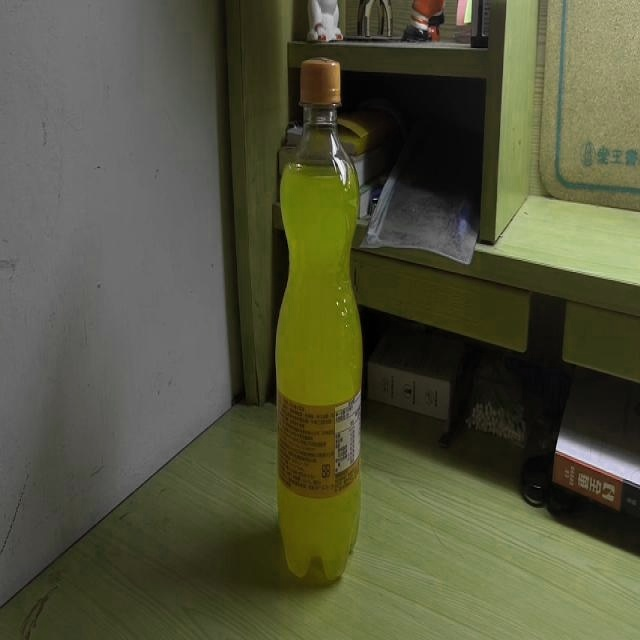Fanta: (276, 56, 362, 582)
